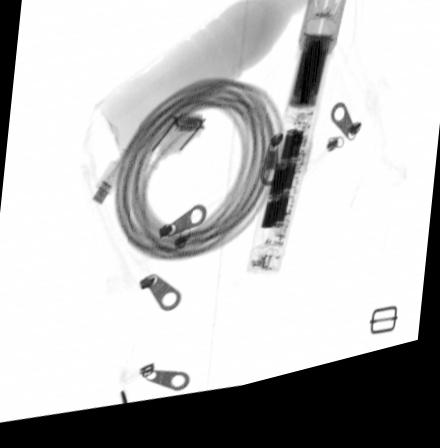Baton: (244, 0, 352, 291)
